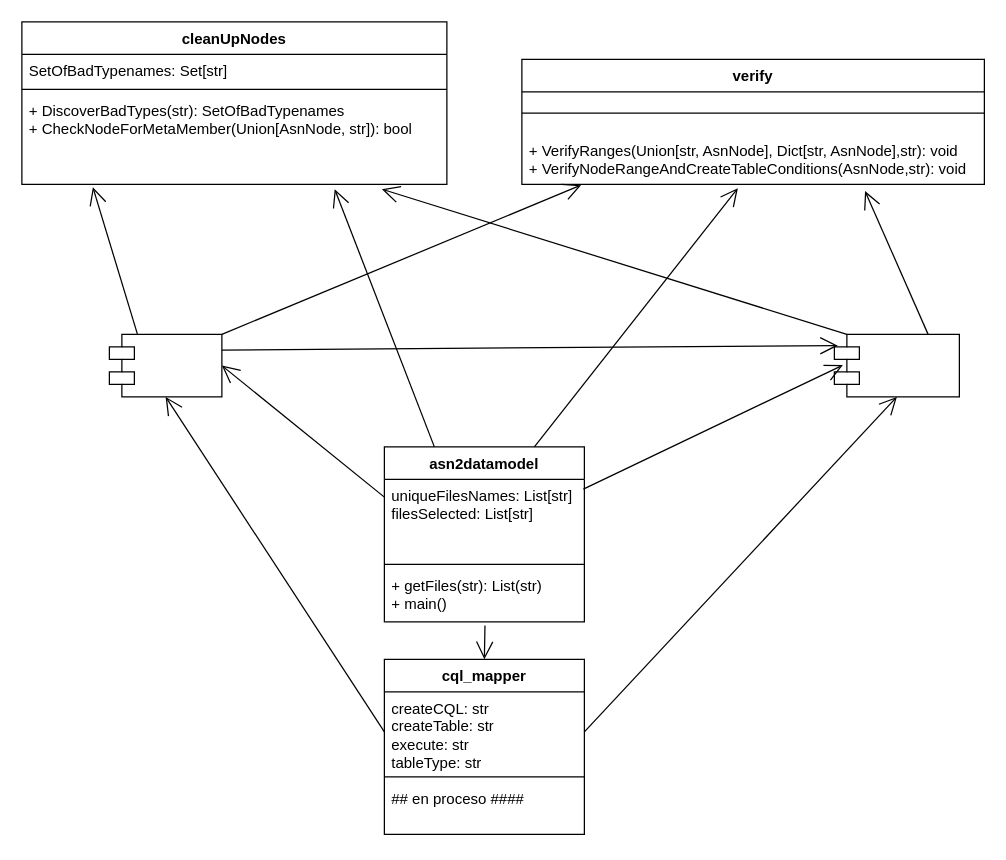
Some shapes in this 1006 by 860 pixel diagram are drawn without their labels. Each missing label, with the centre of its shape:
asnAST: (896,365)
asnParser: (165,365)
